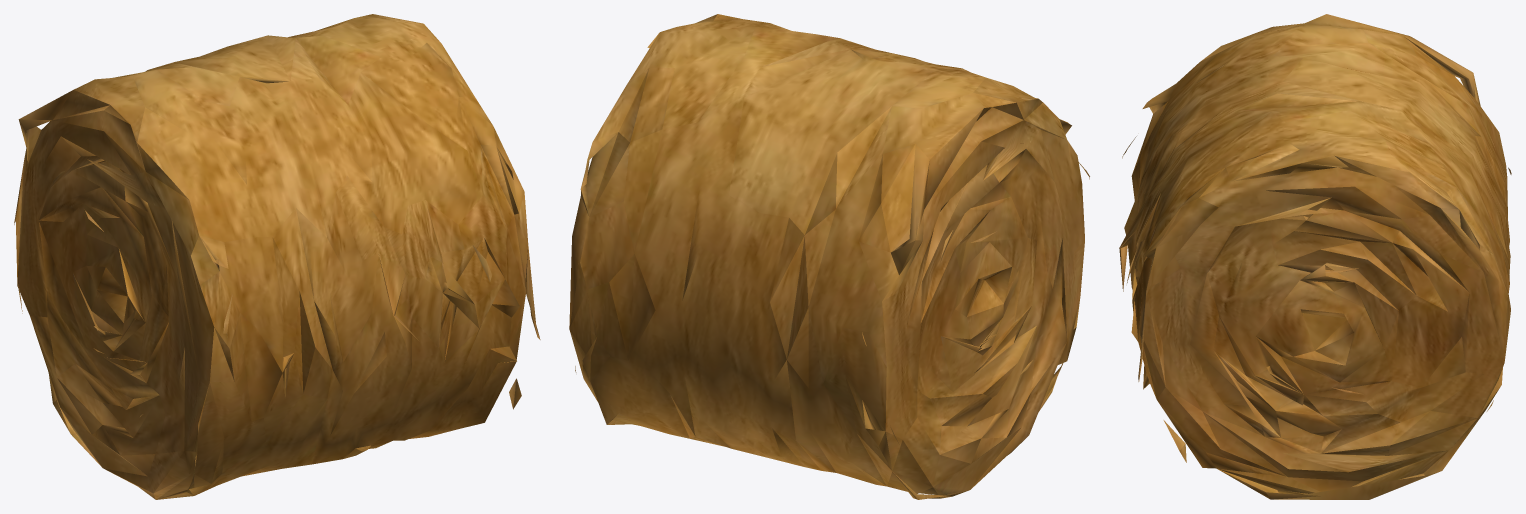
Rendered from hayBaleBound.glb.
3 renders of one model, left to right at view 1: azimuth 30°, elevation 25°; view 2: azimuth 150°, elevation 25°; view 3: azimuth 270°, elevation 25°, orthographic. The views are drawn at different scales.
Parts seen in each view (by area): view 1: model; view 2: model; view 3: model.
Part boxes in pixels (x1=…): model: x1=14, y1=14, x2=540, y2=499; model: x1=569, y1=14, x2=1089, y2=499; model: x1=1119, y1=14, x2=1511, y2=499.
Size of the model in its own units: 1.69 by 1.82 by 1.82.
Materials: 1 (1 with a texture image).
